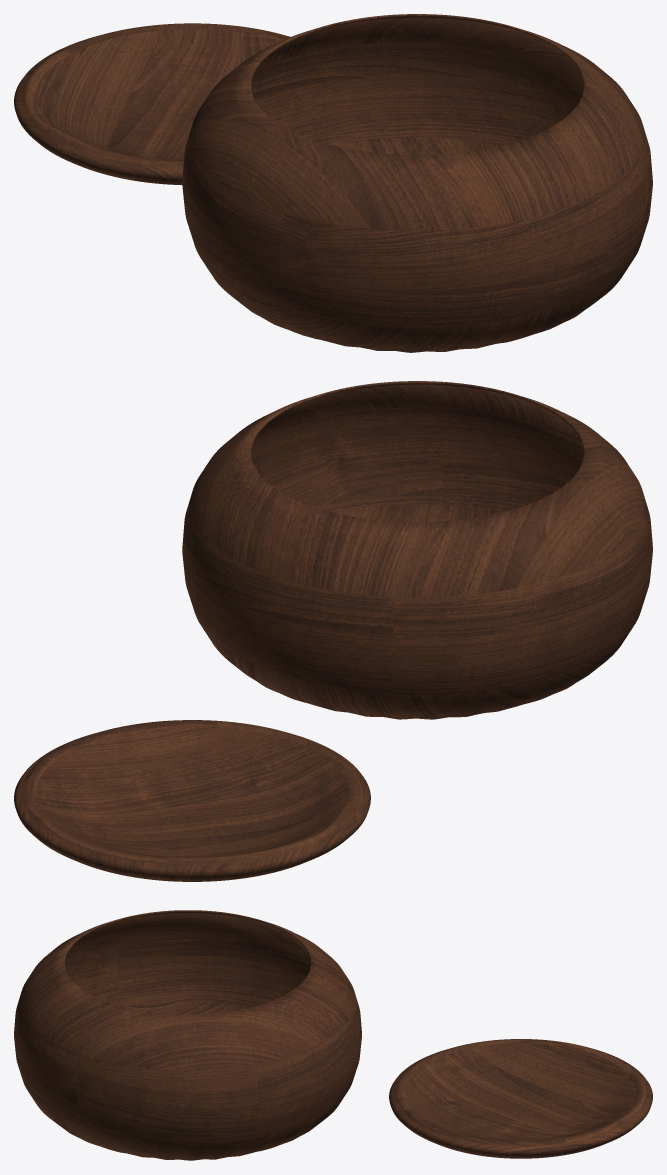
Rendered from bowl_opened.gltf.
3 views of the same model, one above another, from view 1: azimuth 30°, elevation 25°; view 2: azimuth 150°, elevation 25°; view 3: azimuth 270°, elevation 25° (orthographic). The views are drawn at different scales.
Parts seen in each view (by area): view 1: Cylinder.004; view 2: Cylinder.004; view 3: Cylinder.004.
Part boxes in pixels (x1,y1,x2,y2): Cylinder.004: [14, 14, 652, 352]; Cylinder.004: [14, 381, 652, 881]; Cylinder.004: [14, 910, 652, 1160].
Bounding box in the file's own units: 0.1503 × 0.0766 × 0.2759.
1 material, 1 textured.
